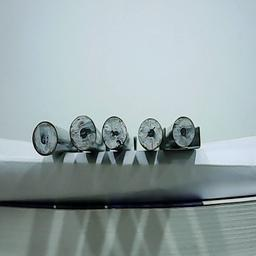pen: (69, 114, 97, 151), (31, 120, 59, 156), (136, 117, 164, 151), (102, 115, 127, 150), (172, 115, 195, 149)
